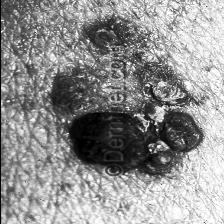Potentially Malignant Skin Tumors: (124, 51, 202, 177), (48, 47, 104, 168)
